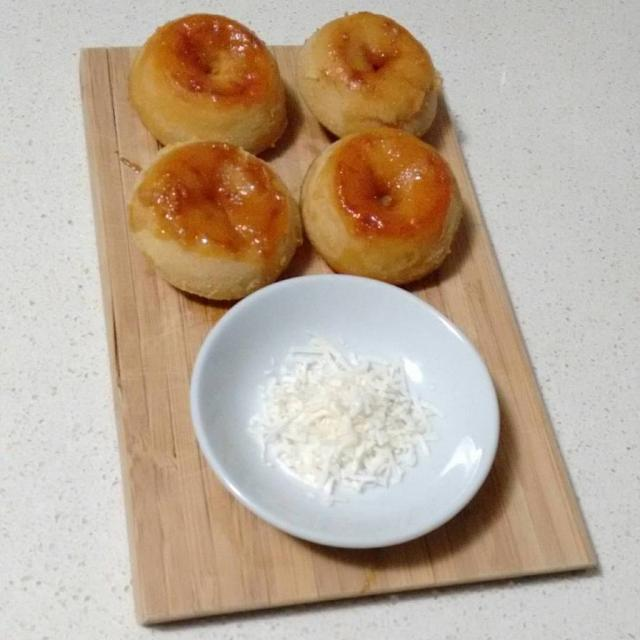Bread: (126, 126, 302, 296), (300, 129, 465, 282), (131, 15, 287, 151), (294, 9, 444, 139)
